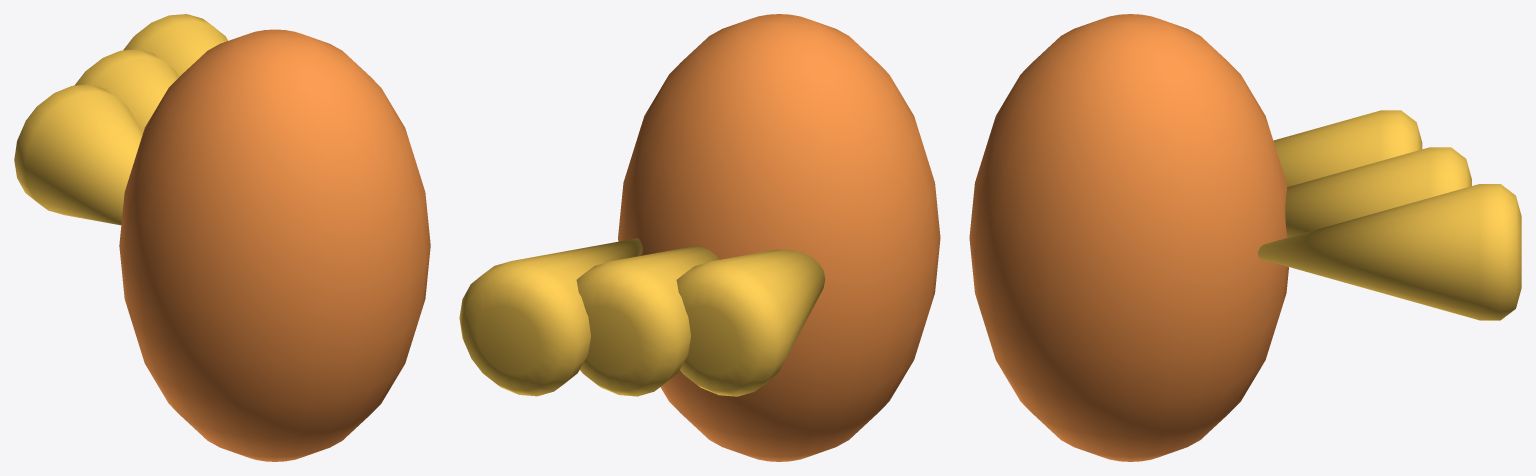
The model's file is fireball.runtime.gltf.
The picture shows the model from 3 angles, left to right: view 1: azimuth 30°, elevation 25°; view 2: azimuth 150°, elevation 25°; view 3: azimuth 270°, elevation 25°; orthographic projection. The views are drawn at different scales.
Visible parts, largest first — view 1: fireball; view 2: fireball; view 3: fireball.
Boxes of the visible parts, x1,y1,x2,y2 form: fireball: (14, 14, 430, 461); fireball: (459, 14, 940, 461); fireball: (969, 14, 1521, 461).
Size of the model in its own units: 0.26 by 0.38 by 0.445.
